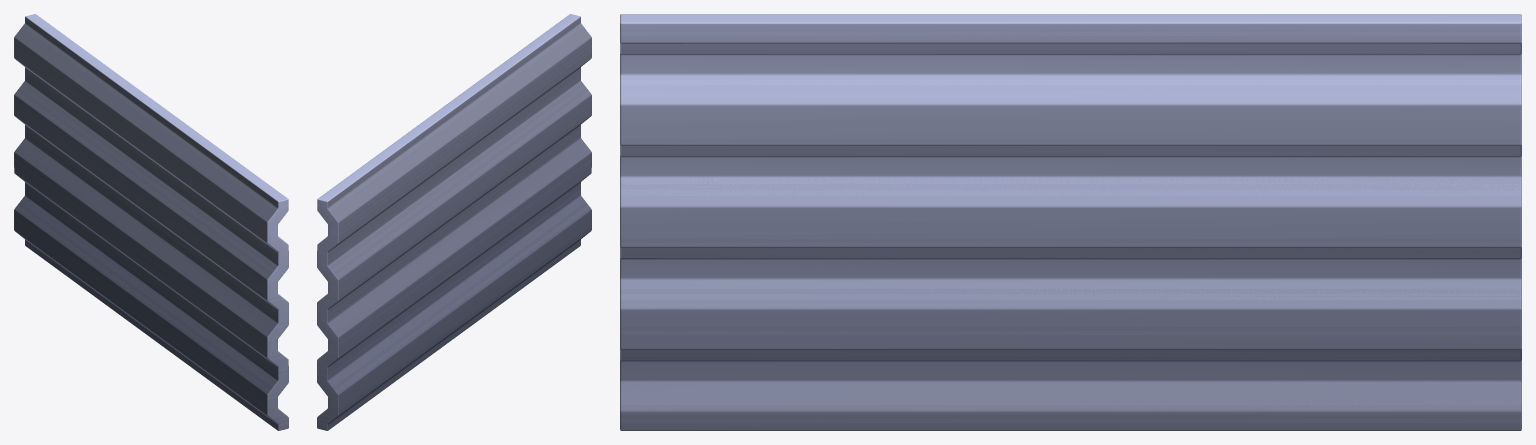
File: plating-wide.glb
3 views of the same model, side by side, from view 1: azimuth 30°, elevation 25°; view 2: azimuth 150°, elevation 25°; view 3: azimuth 270°, elevation 25° (orthographic). The views are drawn at different scales.
Visible parts, largest first — view 1: plating-wide; view 2: plating-wide; view 3: plating-wide.
Part boxes in pixels (x1=…): plating-wide: x1=14, y1=14, x2=288, y2=430; plating-wide: x1=317, y1=14, x2=591, y2=430; plating-wide: x1=620, y1=14, x2=1521, y2=430.
Size of the model in its own units: 0.1 by 1 by 2.
Materials: 1 (1 with a texture image).
